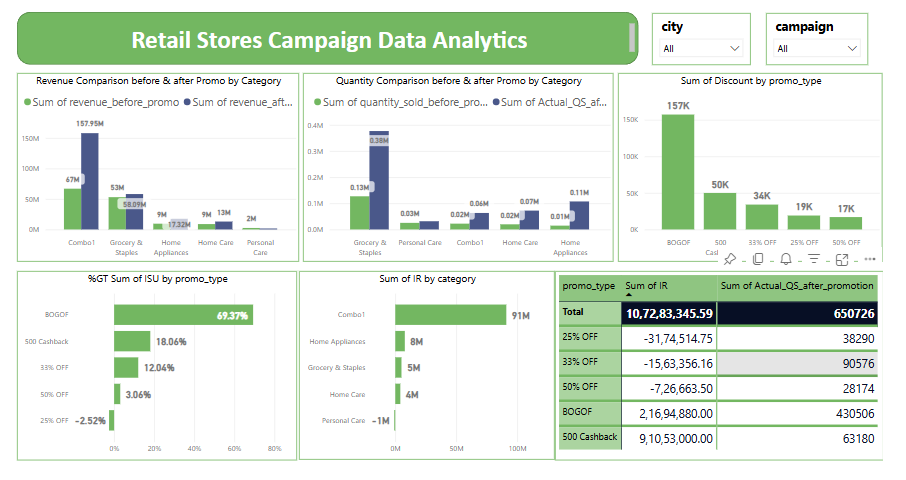

The page's visual inventory and layout, read from the dashboard file:
{"tool":"powerbi","page":{"name":"Page 1","canvas":[1280,720],"ordinal":0},"visuals":[{"type":"slicer","title":"Campaign Name","fields":{"Values":["dim_campaigns.campaign_name"]},"box":[1107,20.2,151.2,77.3],"z":0},{"type":"lineClusteredColumnComboChart","title":"Revenue Comparison before & after Promo by Category","fields":{"Category":["dim_products.category"],"Y":["Sum(fact_events.revenue_before_promo)","Sum(fact_events.revenue_after_promo)"]},"box":[0,109,416.8,279.3],"z":1000},{"type":"lineClusteredColumnComboChart","title":"Quantity Comparison before & after Promo by Category","fields":{"Category":["dim_products.category"],"Y":["Sum(fact_events.quantity_sold_before_promo)","Sum(fact_events.Actual_QS_after_promotion)"]},"box":[422.7,109,458.6,279.3],"z":2000},{"type":"slicer","fields":{"Values":["dim_stores.city"]},"box":[939,20.2,146.1,77.3],"z":3000},{"type":"columnChart","fields":{"Category":["fact_events.promo_type"],"Y":["Sum(fact_events.Discount)"]},"box":[888.8,109,391.4,279.3],"z":4000},{"type":"barChart","fields":{"Y":["Divide(Sum(fact_events.Incremental_Revenue), ScopedEval(Sum(fact_events.Incremental_Revenue), []))"],"Category":["dim_products.category"]},"box":[416.8,401.8,377.9,279.3],"z":5000},{"type":"barChart","fields":{"Category":["fact_events.promo_type"],"Y":["Sum(fact_events.Incremental_sold_quantity)"]},"box":[13.4,401.8,400.3,279.3],"z":6000},{"type":"pivotTable","fields":{"Rows":["fact_events.promo_type"],"Values":["Sum(fact_events.Incremental_Revenue)","Sum(fact_events.Actual_QS_after_promotion)"]},"box":[794.7,401.8,475,279.3],"z":7000},{"type":"shape","box":[0,19.4,918.7,77.7],"z":8000},{"type":"textbox","box":[13.4,31.4,905.2,53.8],"z":9000}]}

Visuals, with their boxes on the page's 1280x720 design canvas (x1, y1, x2, y2). These are canvas units, not pixel positions in the 906x480 screenshot, which may show the page scaled, cropped or inside an application window:
"Campaign Name" slicer: (1107, 20, 1258, 98)
"Revenue Comparison before & after Promo by Category" lineClusteredColumnComboChart: (0, 109, 417, 388)
"Quantity Comparison before & after Promo by Category" lineClusteredColumnComboChart: (423, 109, 881, 388)
slicer - dim_stores.city: (939, 20, 1085, 98)
columnChart - fact_events.promo_type x Sum(fact_events.Discount): (889, 109, 1280, 388)
barChart - Divide(Sum(fact_events.Incremental_Revenue), ScopedEval(Sum(fact_events.Incremental_Revenue), [])) x dim_products.category: (417, 402, 795, 681)
barChart - fact_events.promo_type x Sum(fact_events.Incremental_sold_quantity): (13, 402, 414, 681)
pivotTable - fact_events.promo_type x Sum(fact_events.Incremental_Revenue): (795, 402, 1270, 681)
shape: (0, 19, 919, 97)
textbox: (13, 31, 919, 85)
